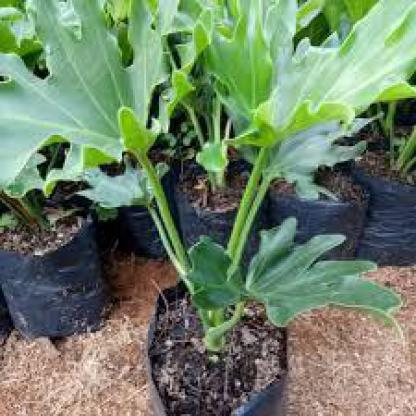Kenanga: (186, 197, 301, 305)
